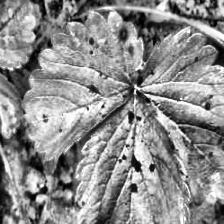Leaf Spot: (20, 9, 144, 163), (73, 89, 192, 224), (138, 26, 224, 206)
